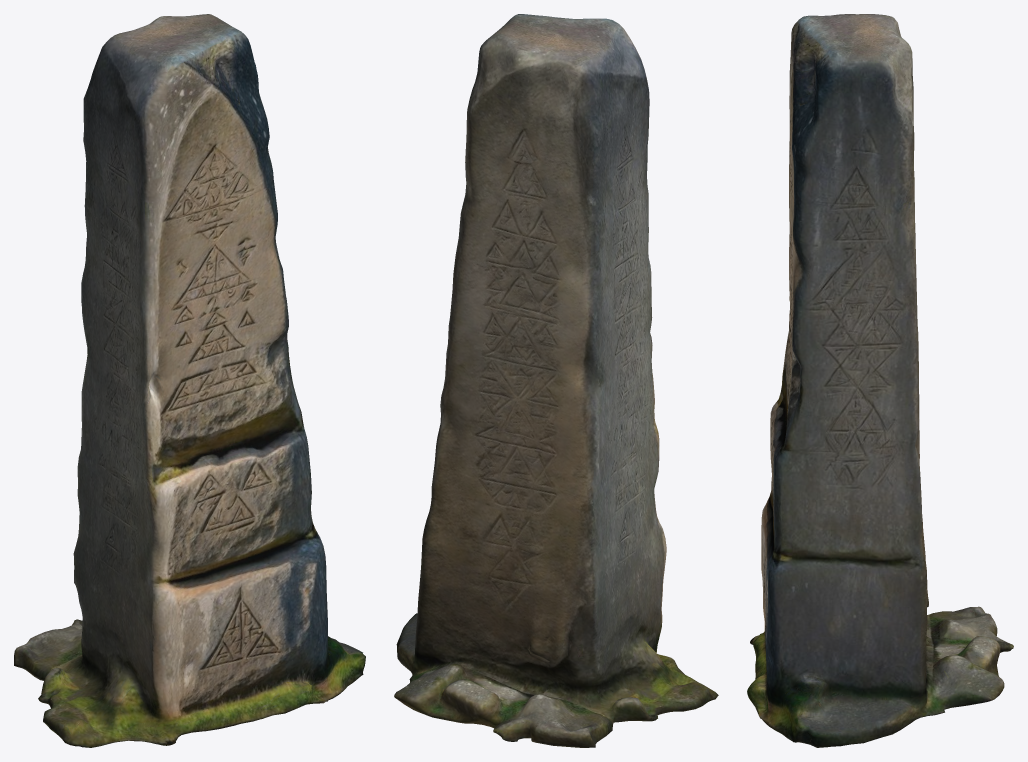
File: menhir.glb
The picture shows the model from 3 angles, left to right: view 1: azimuth 30°, elevation 25°; view 2: azimuth 150°, elevation 25°; view 3: azimuth 270°, elevation 25°; orthographic projection. The views are drawn at different scales.
Size of the model in its own units: 0.9509 by 1.99 by 0.7494.
Materials: 1 (1 with a texture image).
